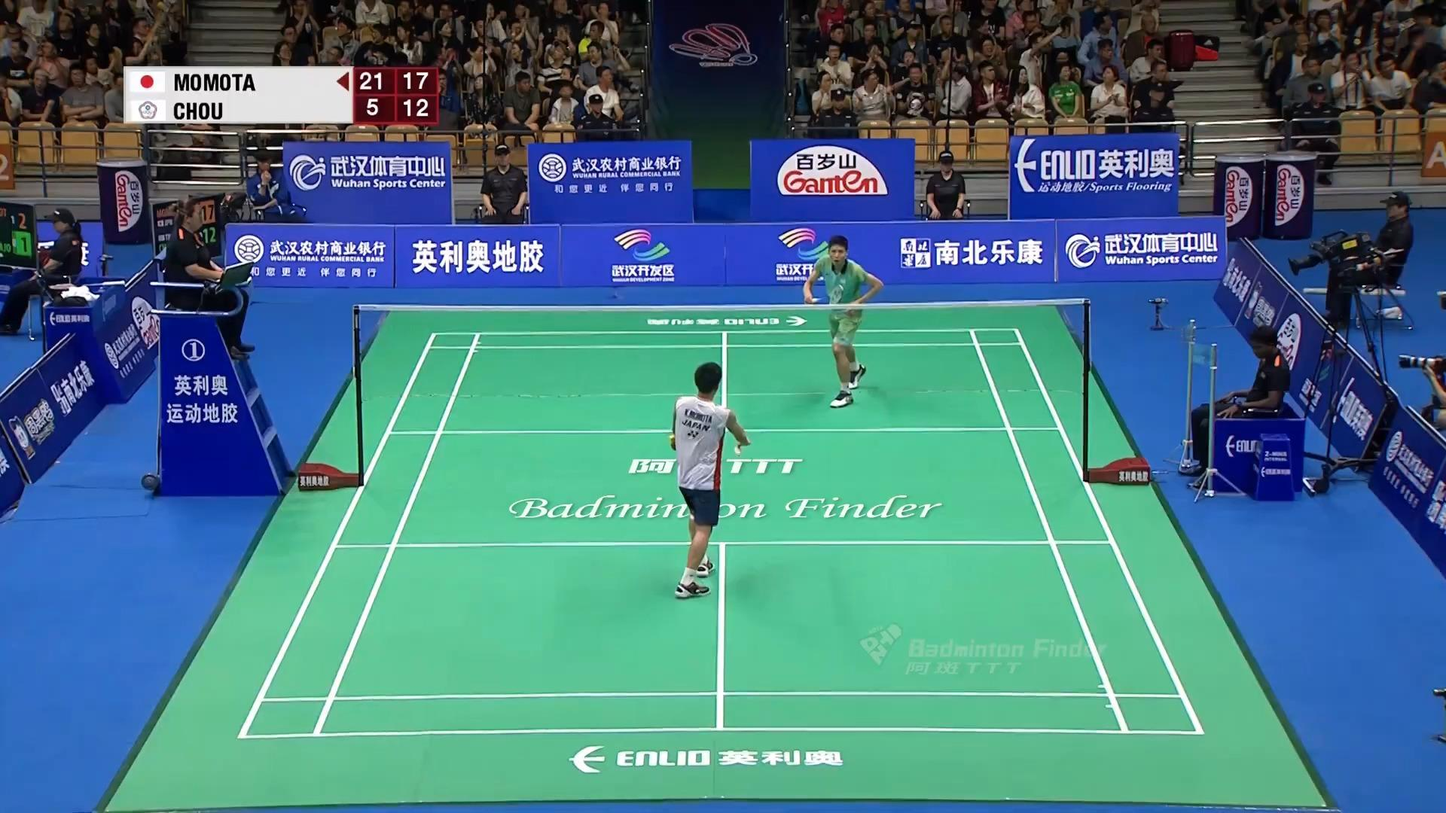player: (668, 362, 751, 599), (803, 234, 883, 409)
